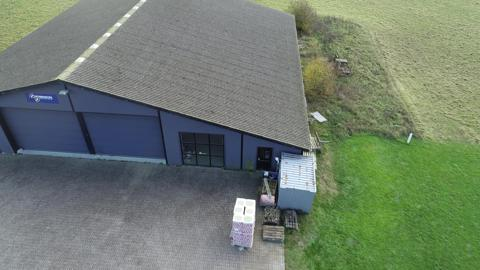RockwoolPallet: (231, 198, 257, 247)
